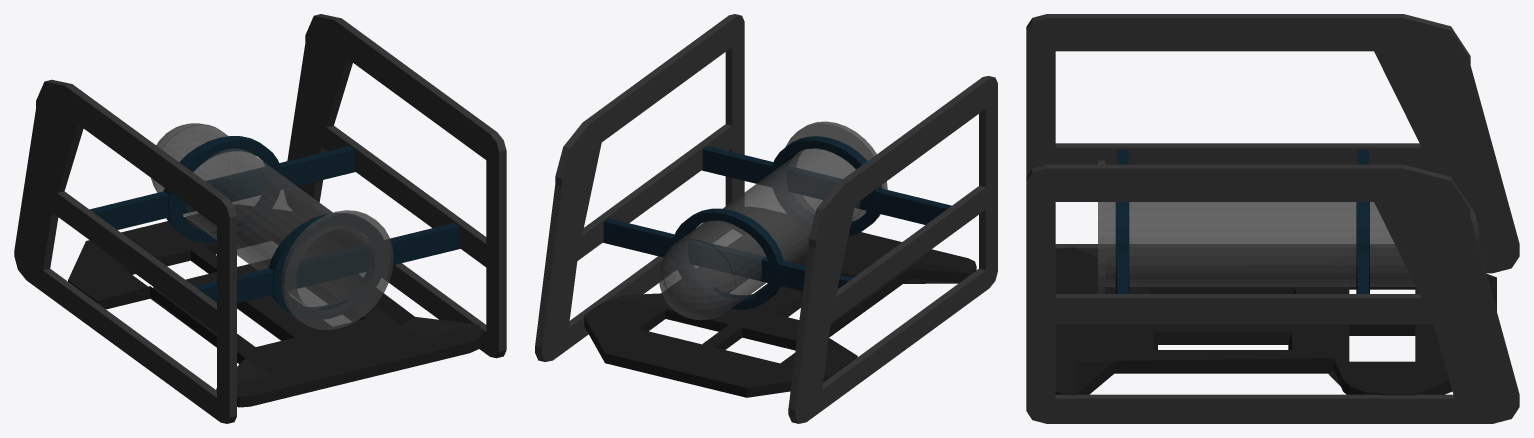
File: ROV_frame.glb
3 views of the same model, side by side, from view 1: azimuth 30°, elevation 25°; view 2: azimuth 150°, elevation 25°; view 3: azimuth 270°, elevation 25° (orthographic). The views are drawn at different scales.
Parts seen in each view (by area): view 1: Cube, 立方体.001, Cube.001, 柱体.001, 立方体.003, 立方体.002; view 2: Cube, 立方体.001, Cube.001, 柱体.001, 立方体.002, 立方体.003; view 3: Cube.001, Cube, 立方体.001, 柱体.001, 立方体.003, 立方体.002.
Boxes of the visible parts, x1,y1,x2,y2 form: Cube: [14, 79, 236, 423]; 立方体.001: [68, 205, 483, 407]; Cube.001: [284, 14, 506, 358]; 柱体.001: [151, 123, 393, 329]; 立方体.003: [195, 213, 460, 319]; 立方体.002: [89, 136, 355, 243]; Cube: [788, 76, 997, 423]; 立方体.001: [584, 207, 976, 397]; Cube.001: [535, 14, 744, 361]; 柱体.001: [659, 121, 887, 320]; 立方体.002: [603, 208, 852, 309]; 立方体.003: [702, 136, 951, 236]; Cube.001: [1026, 164, 1519, 423]; Cube: [1026, 14, 1519, 273]; 立方体.001: [1055, 247, 1496, 395]; 柱体.001: [1098, 160, 1479, 293]; 立方体.003: [1115, 149, 1129, 293]; 立方体.002: [1356, 149, 1369, 293].
Size of the model in its own units: 7 by 5.39 by 9.44.
